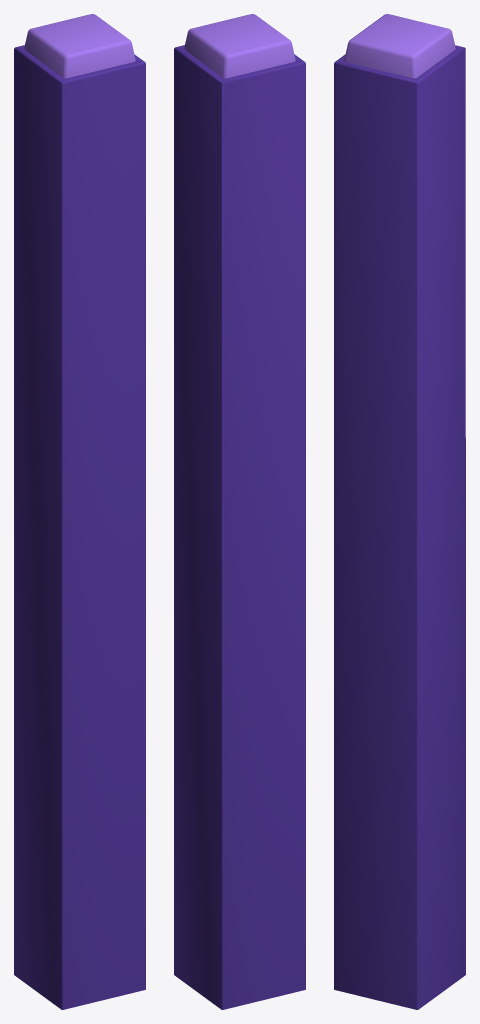
Rendered from environment.fbx.
3 renders of one model, left to right at view 1: azimuth 30°, elevation 25°; view 2: azimuth 210°, elevation 25°; view 3: azimuth 330°, elevation 25°, orthographic.
Visible parts, largest first — view 1: Cube.001; view 2: Cube.001; view 3: Cube.001.
Boxes of the visible parts, bbox=[...] form: Cube.001: bbox=[14, 14, 145, 1009]; Cube.001: bbox=[174, 14, 305, 1009]; Cube.001: bbox=[334, 14, 465, 1009].
Size of the model in its own units: 2 by 21.46 by 2.
